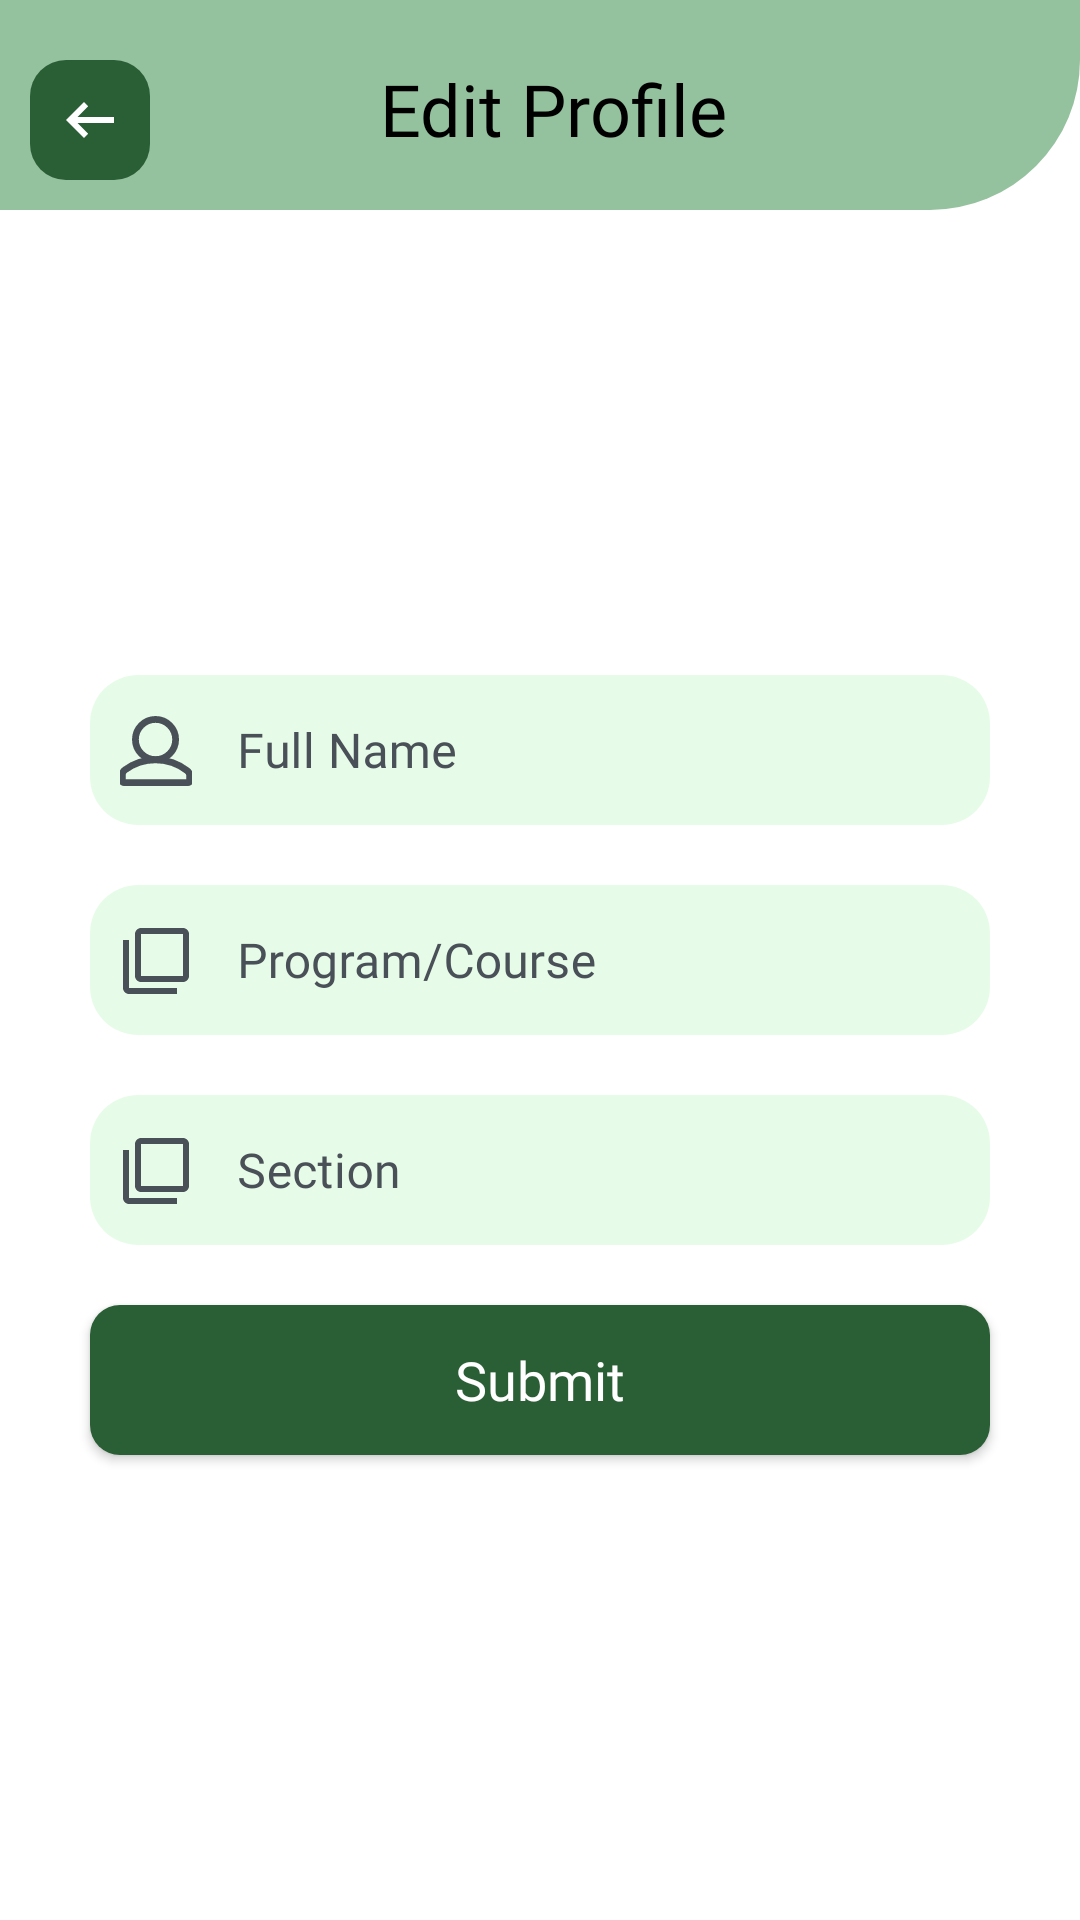

Icon click points for this 1080 x 1920 phone screenshot, format [x,y]:
arrow left: [90,120]
